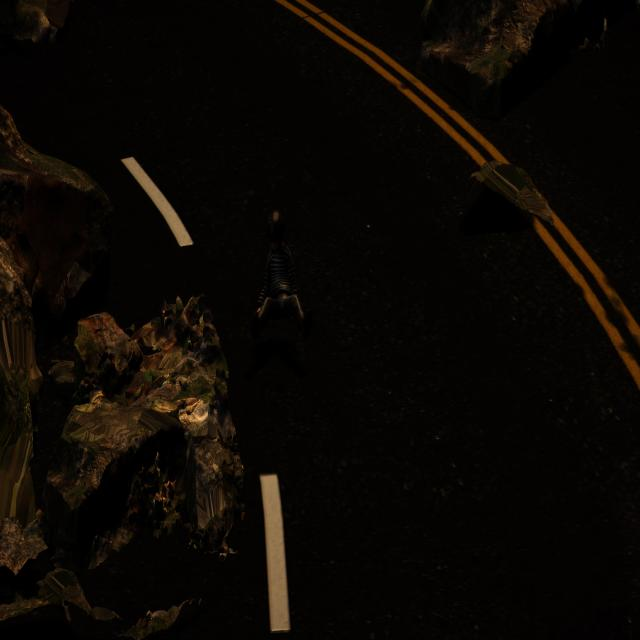Human: (246, 201, 318, 341)
